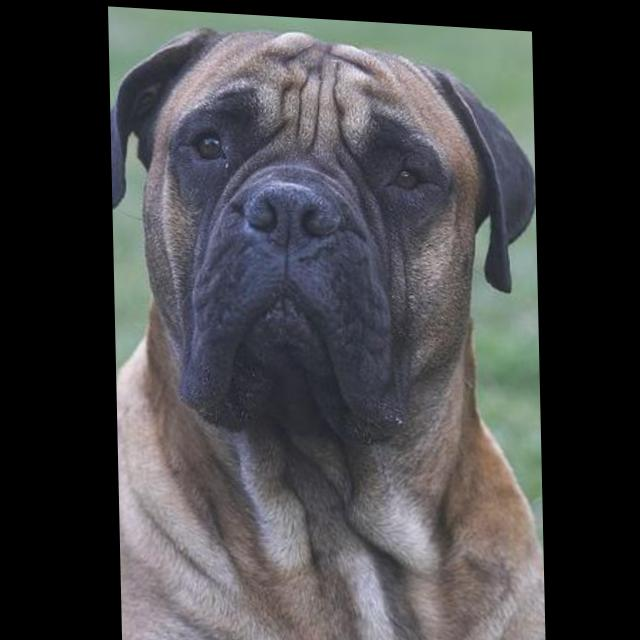bullmastiff: (109, 18, 544, 640)
